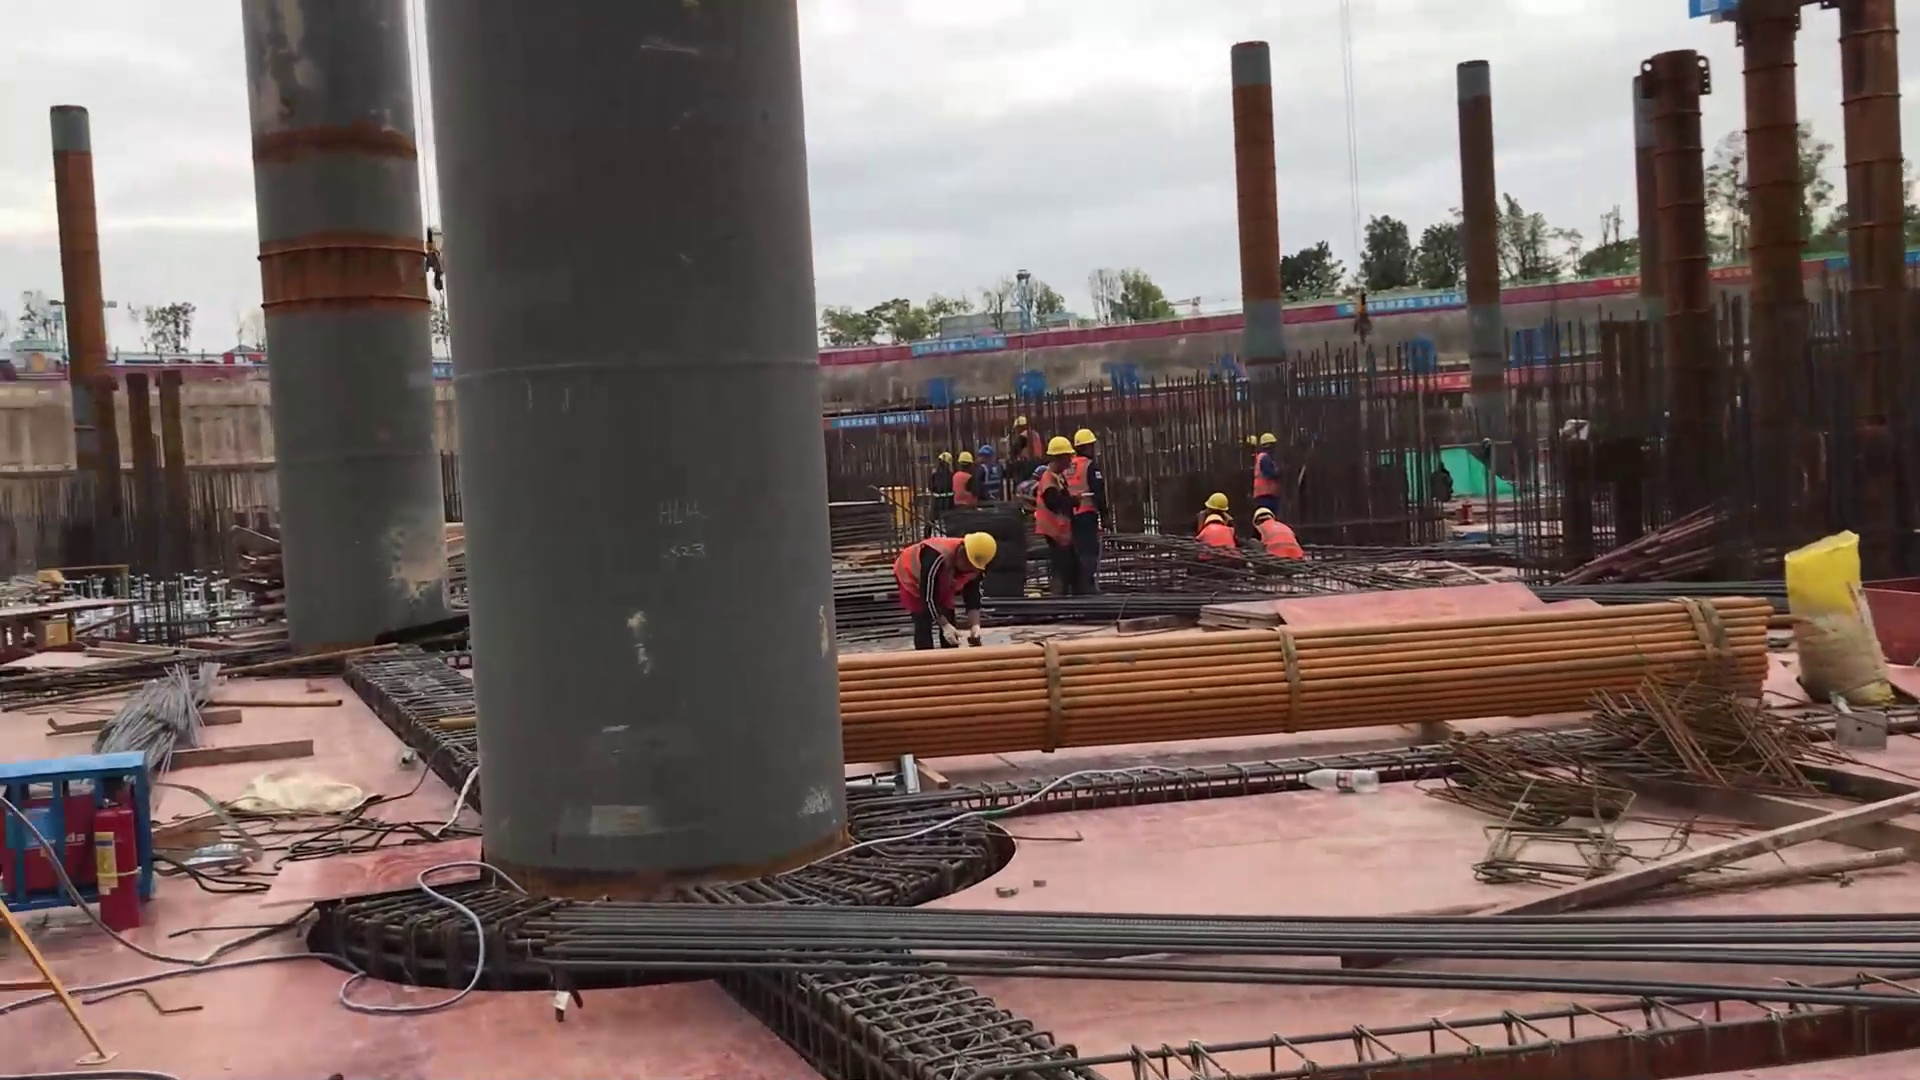board: (831, 495, 906, 546)
cutter: (21, 562, 136, 661)
ebox: (38, 617, 71, 661), (885, 492, 909, 535)
helmet: (961, 525, 997, 573), (1047, 434, 1072, 460), (1071, 428, 1098, 446), (1246, 507, 1271, 522), (1209, 492, 1232, 509), (1203, 513, 1231, 523), (1244, 433, 1258, 449), (956, 451, 971, 465), (936, 450, 953, 462), (1012, 419, 1028, 431), (1026, 463, 1045, 474), (1263, 434, 1275, 449), (977, 444, 990, 454)
hook: (1353, 284, 1370, 332)
person: (889, 527, 1000, 655), (1070, 425, 1115, 588), (1037, 433, 1074, 583), (1245, 507, 1303, 580), (916, 447, 959, 527), (1259, 428, 1291, 513), (1005, 408, 1047, 461), (976, 445, 1001, 510), (1202, 519, 1238, 564), (956, 445, 975, 513), (1194, 490, 1235, 517), (1238, 430, 1260, 479)
rebar: (540, 884, 1919, 1024), (1531, 584, 1854, 621), (992, 587, 1205, 615)
vest: (895, 540, 971, 617), (1036, 465, 1070, 540), (1261, 522, 1302, 566), (1076, 454, 1097, 519), (1261, 449, 1285, 502), (1204, 523, 1239, 558), (987, 461, 1012, 507), (936, 464, 956, 516), (955, 472, 986, 502), (1015, 479, 1046, 507), (1013, 433, 1046, 457), (1245, 454, 1256, 499)
